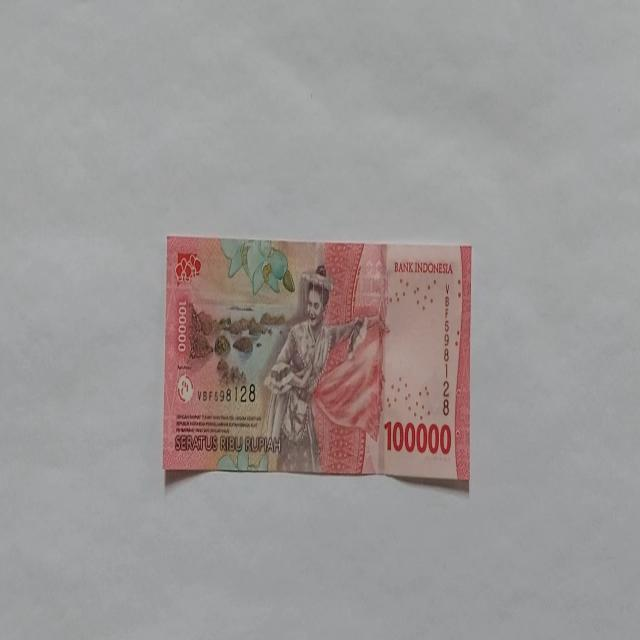seratus ribu rupiah: (162, 236, 472, 484), (260, 264, 374, 473)
